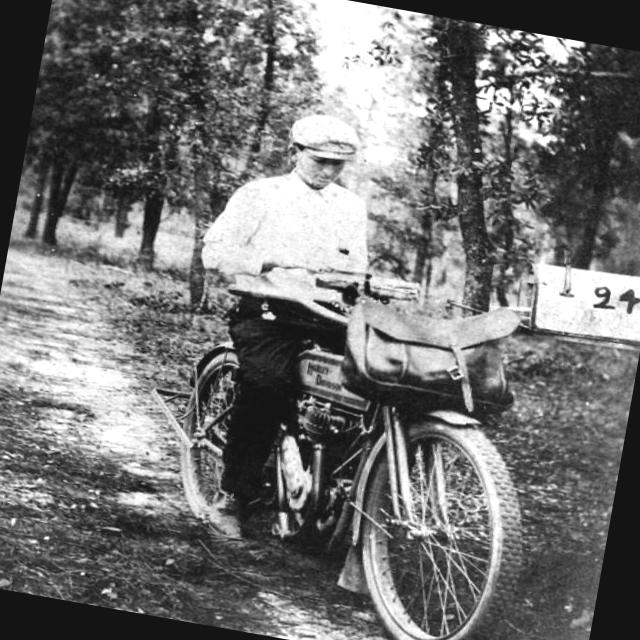Vehicle: (110, 301, 554, 640)
